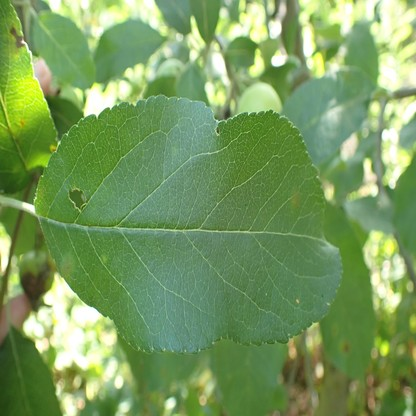scab: (1, 22, 26, 59), (59, 252, 74, 280), (341, 338, 351, 354), (292, 190, 299, 212), (330, 322, 336, 334)
